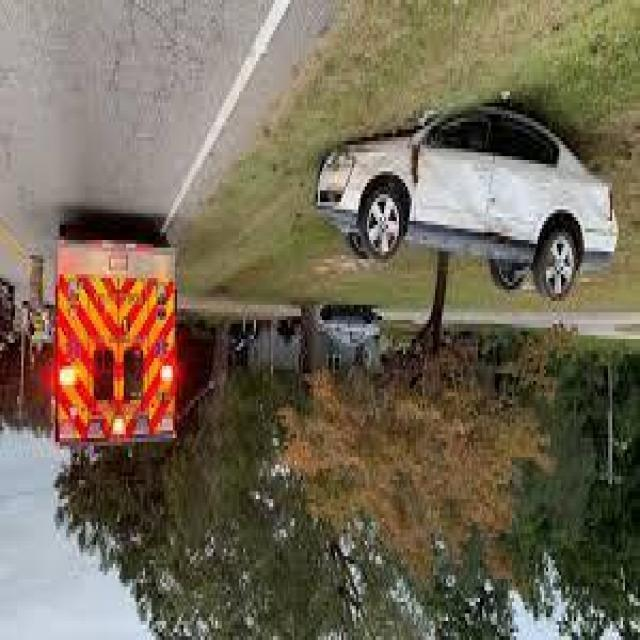severe: (310, 90, 624, 306)
